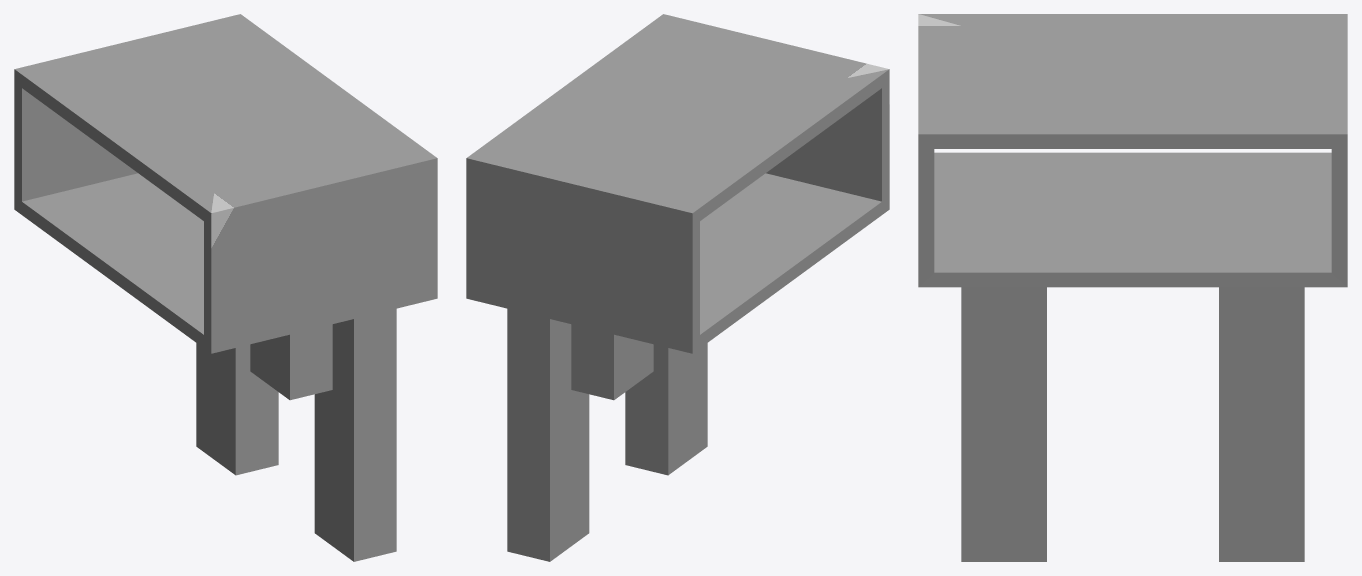
File: volcano_cable_car_station.fbx
3 renders of one model, left to right at view 1: azimuth 30°, elevation 25°; view 2: azimuth 150°, elevation 25°; view 3: azimuth 270°, elevation 25°, orthographic. The views are drawn at different scales.
Visible parts, largest first — view 1: station; view 2: station; view 3: station.
Part boxes in pixels (<box>): station: <box>14,14,437,561</box>; station: <box>466,14,889,561</box>; station: <box>918,14,1347,561</box>.
Size of the model in its own units: 711 by 1210 by 1072.
